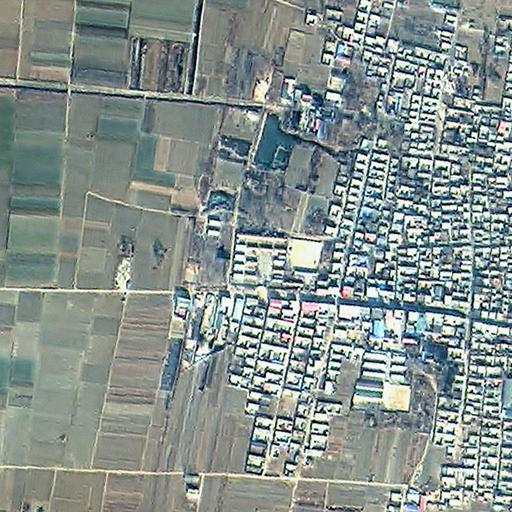school: (231, 233, 320, 285), (349, 349, 414, 414)
